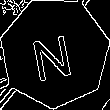N_N: (31, 24, 79, 81)
